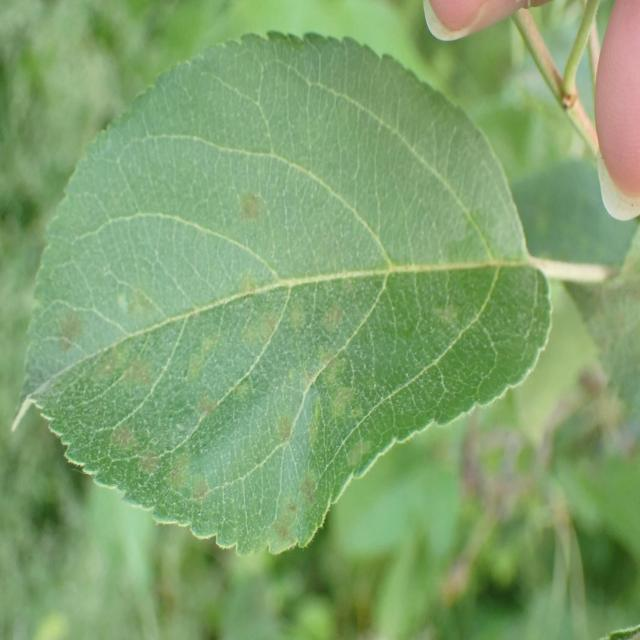scab: (31, 161, 530, 561)
